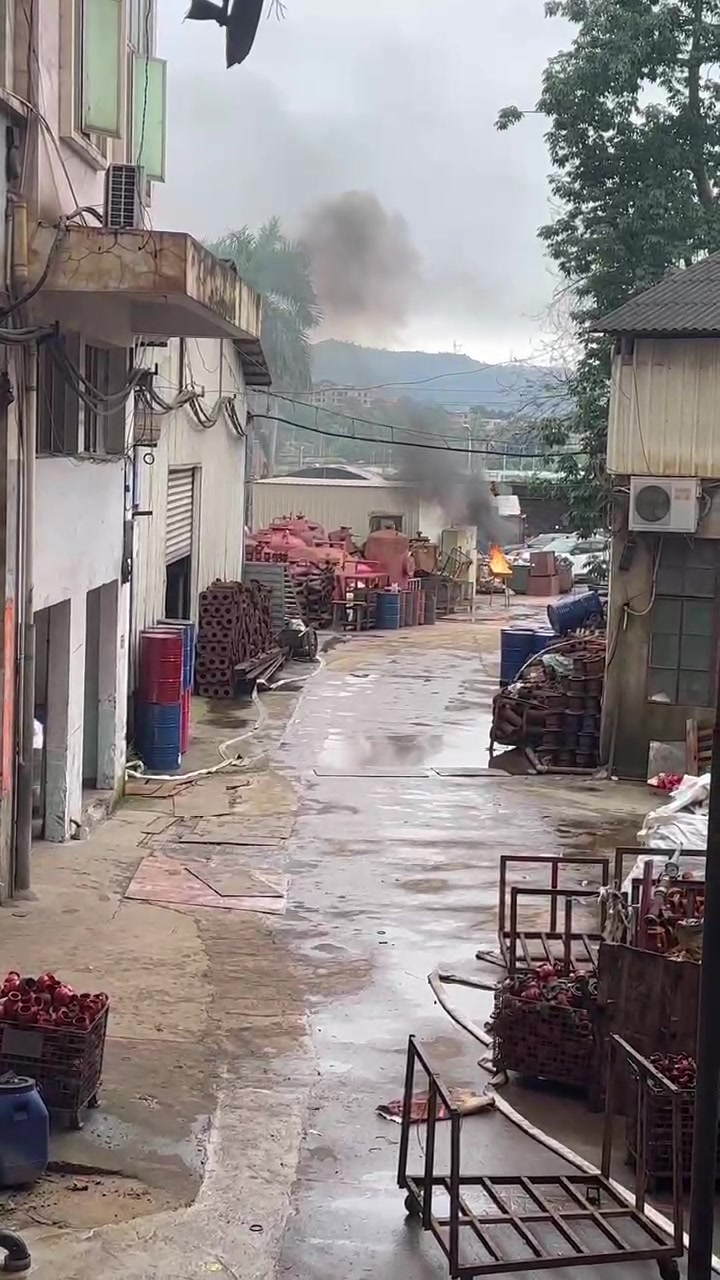fire: (488, 545, 511, 572)
